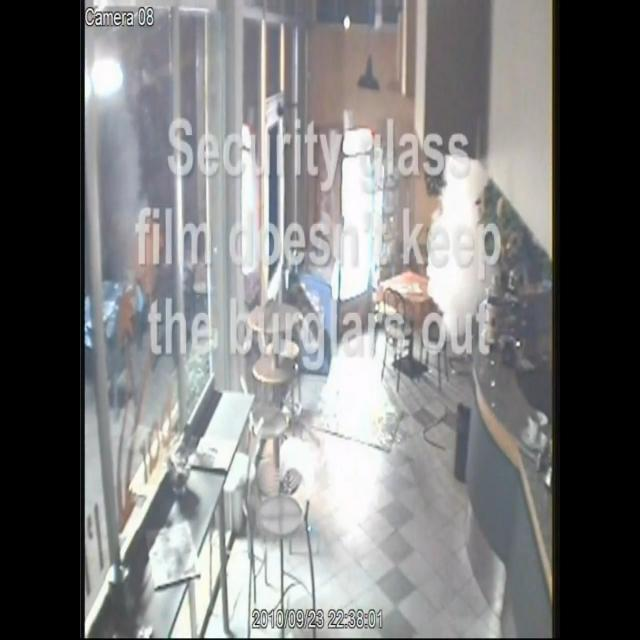Smoke: (426, 156, 489, 339)
